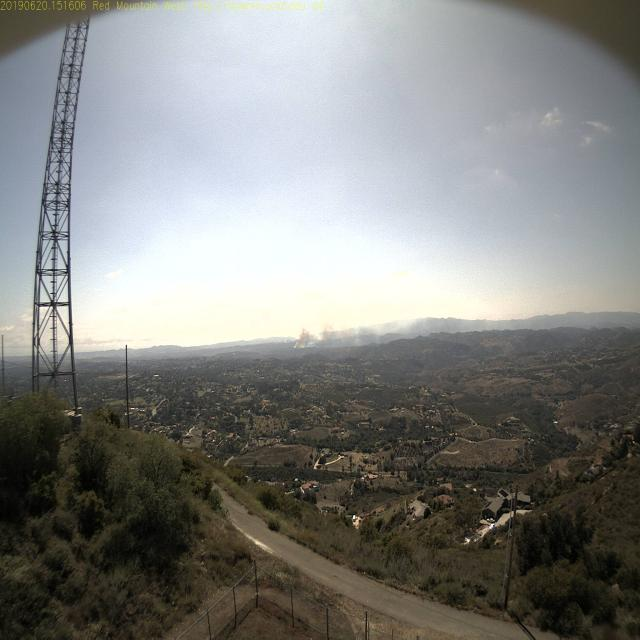smoke: (288, 324, 320, 359)
